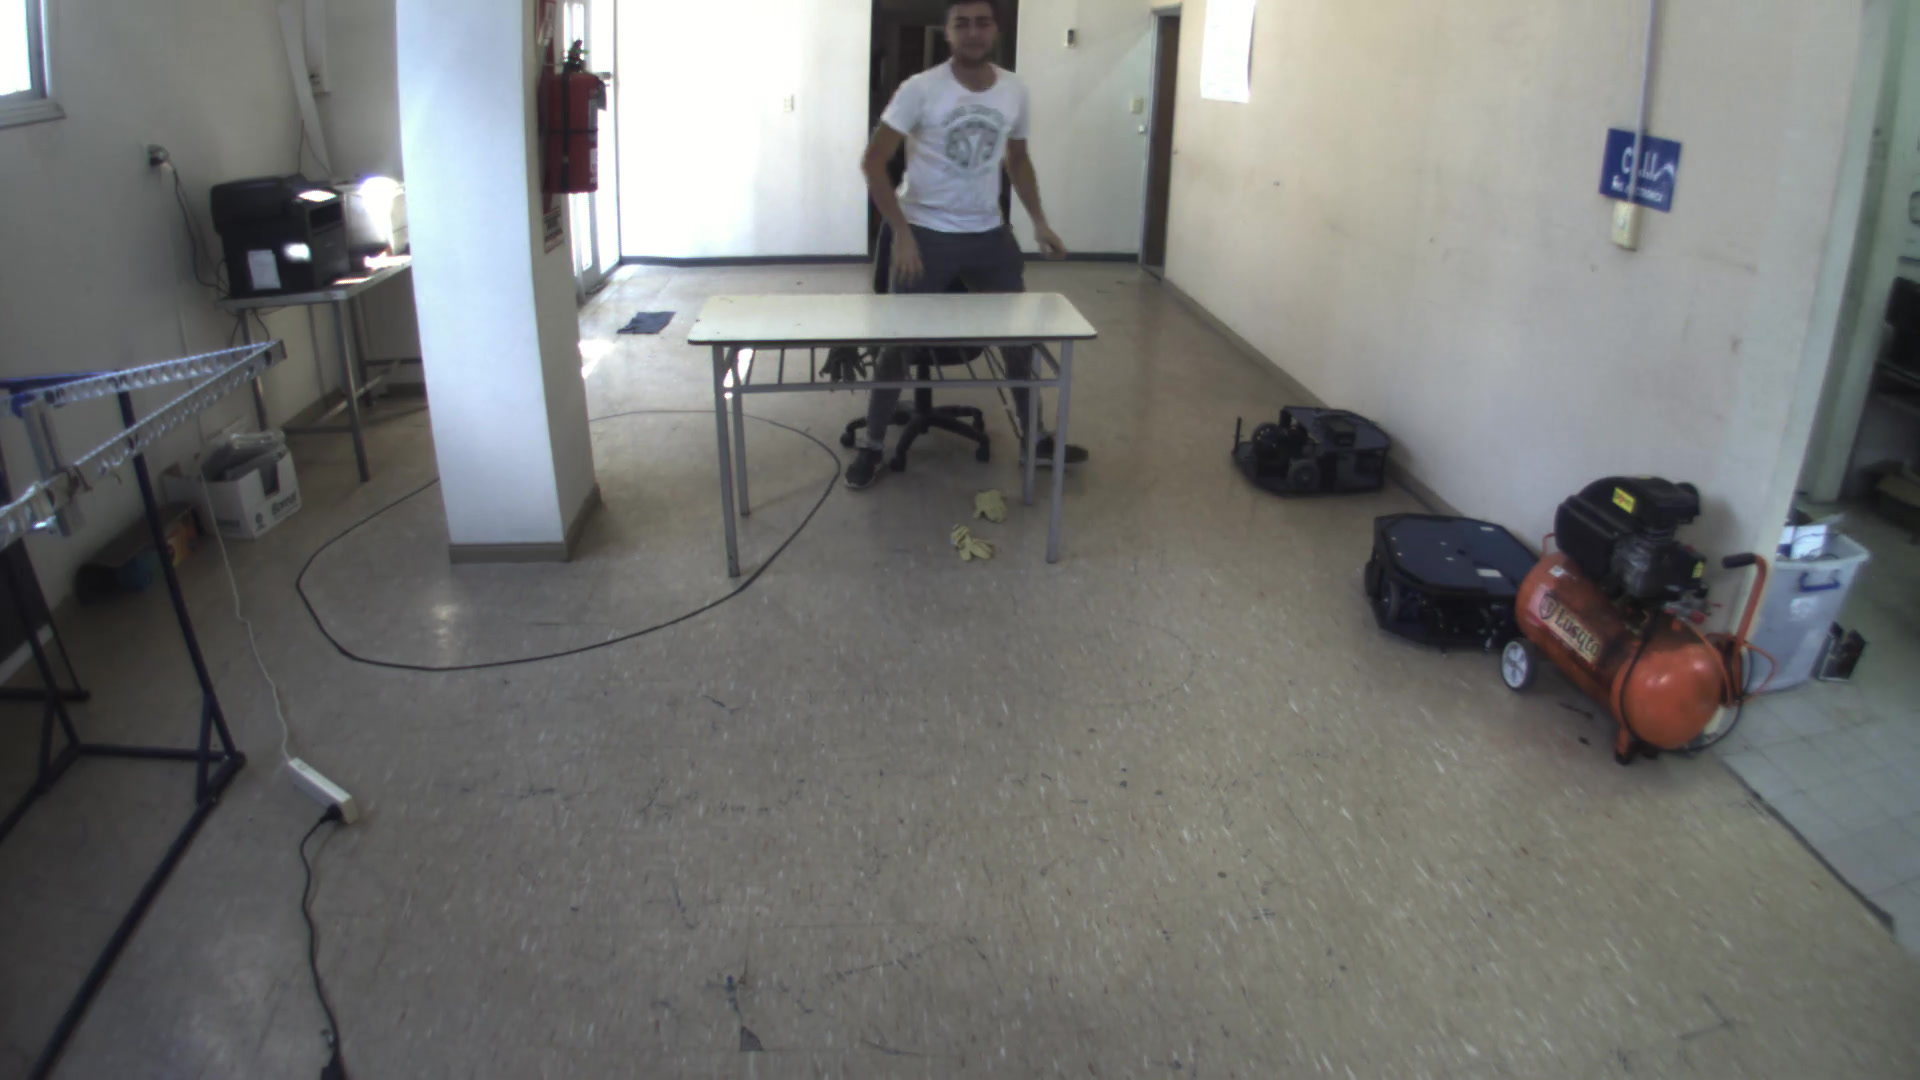hand: (877, 222, 934, 294), (1029, 216, 1071, 261)
